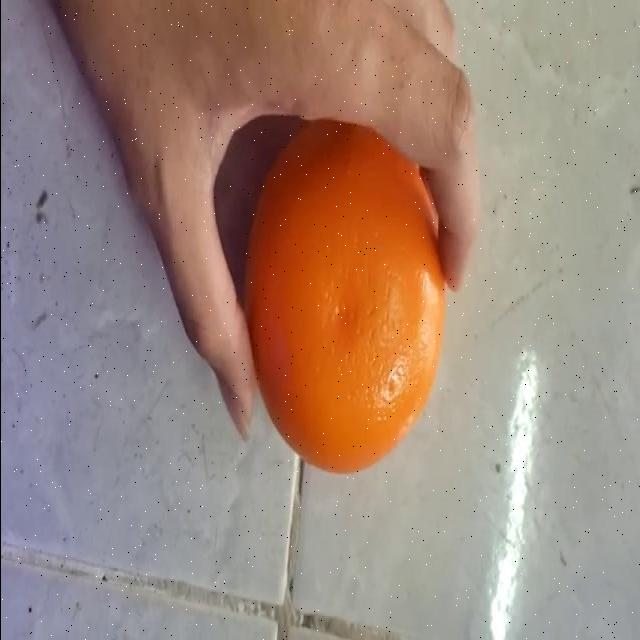Orange: (244, 118, 448, 475)
